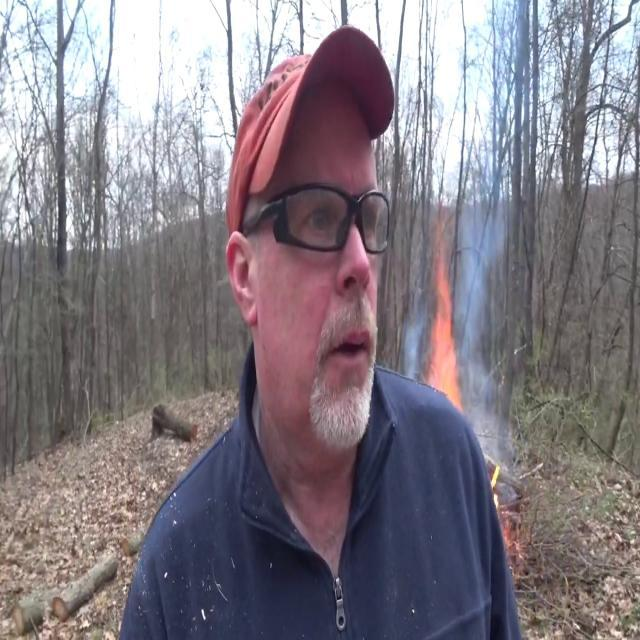Fire: (422, 248, 462, 403)
Smoke: (446, 160, 514, 422)
